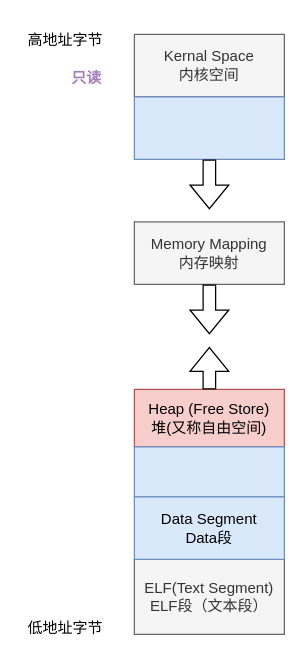
Image size: 306x668. Some labels were removed from this diagram. The shapes that lost their labels are listed below. From the top down, each one's box as (x1, y1, x2, y2) in pixels, then its label:
(133, 96, 284, 159): Stack 栈空间（又称堆栈）
(133, 446, 284, 497): BBS Segment BBS段
